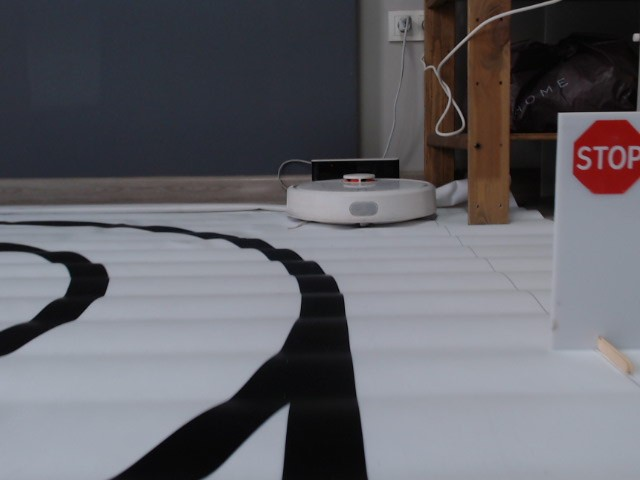Stop: (571, 117, 640, 197)
